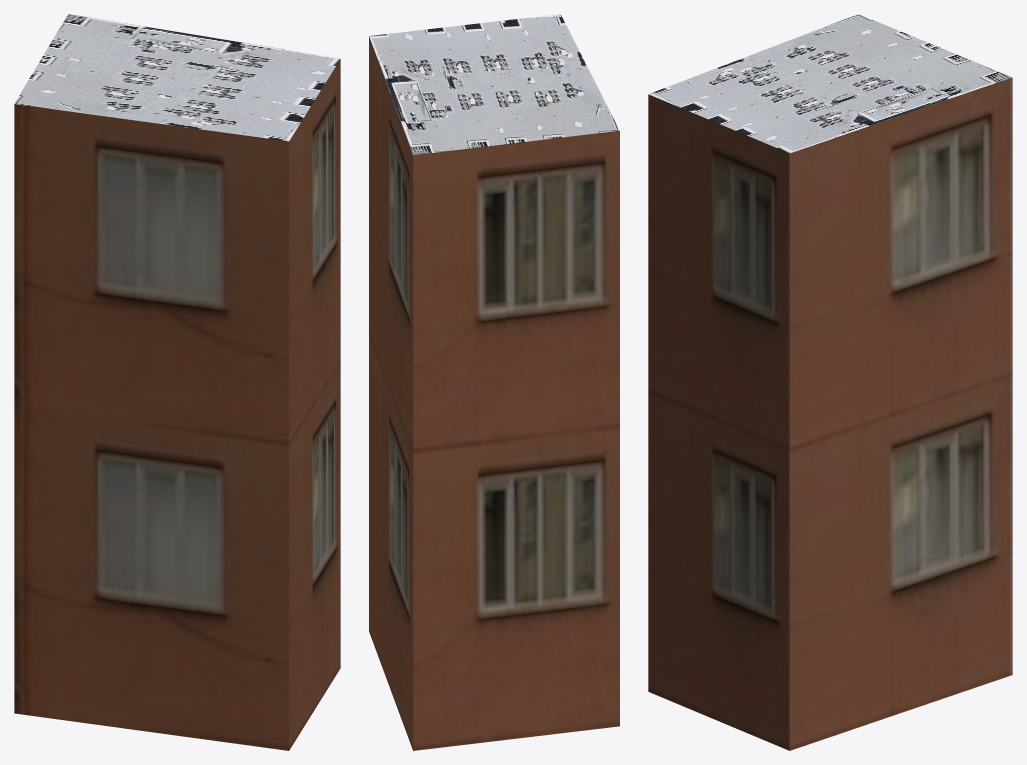
File: ResTex__1823.fbx
3 renders of one model, left to right at view 1: azimuth 30°, elevation 25°; view 2: azimuth 150°, elevation 25°; view 3: azimuth 270°, elevation 25°, orthographic. The views are drawn at different scales.
Parts seen in each view (by area): view 1: CityEngineMaterial_20_m, CityEngineMaterial_4_m; view 2: CityEngineMaterial_20_m, CityEngineMaterial_4_m; view 3: CityEngineMaterial_20_m, CityEngineMaterial_4_m.
Part boxes in pixels (<box>): CityEngineMaterial_20_m: <box>14,59,340,750</box>; CityEngineMaterial_4_m: <box>14,14,340,141</box>; CityEngineMaterial_20_m: <box>369,36,619,750</box>; CityEngineMaterial_4_m: <box>369,14,619,155</box>; CityEngineMaterial_20_m: <box>648,77,1012,750</box>; CityEngineMaterial_4_m: <box>649,14,1012,153</box>.
Bounding box in the file's own units: 3 × 6 × 3.32.
Materials: 2 (2 with a texture image).
